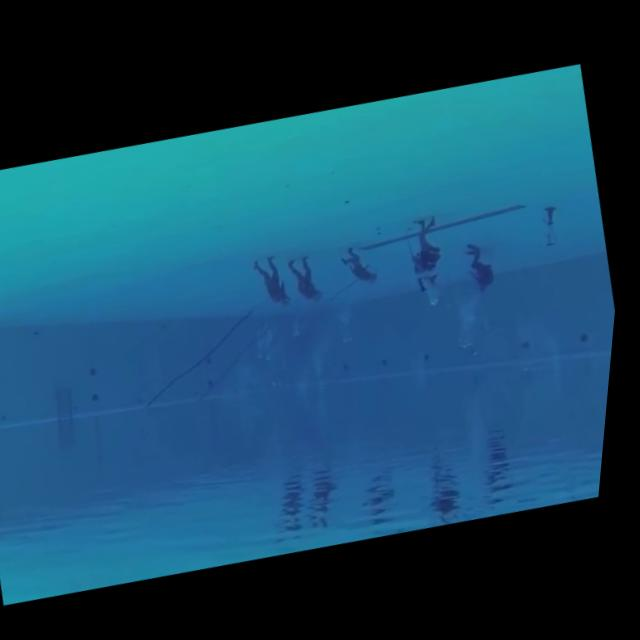human: (399, 205, 459, 285), (280, 240, 340, 314), (247, 239, 306, 313), (458, 228, 512, 303), (337, 234, 392, 293)
